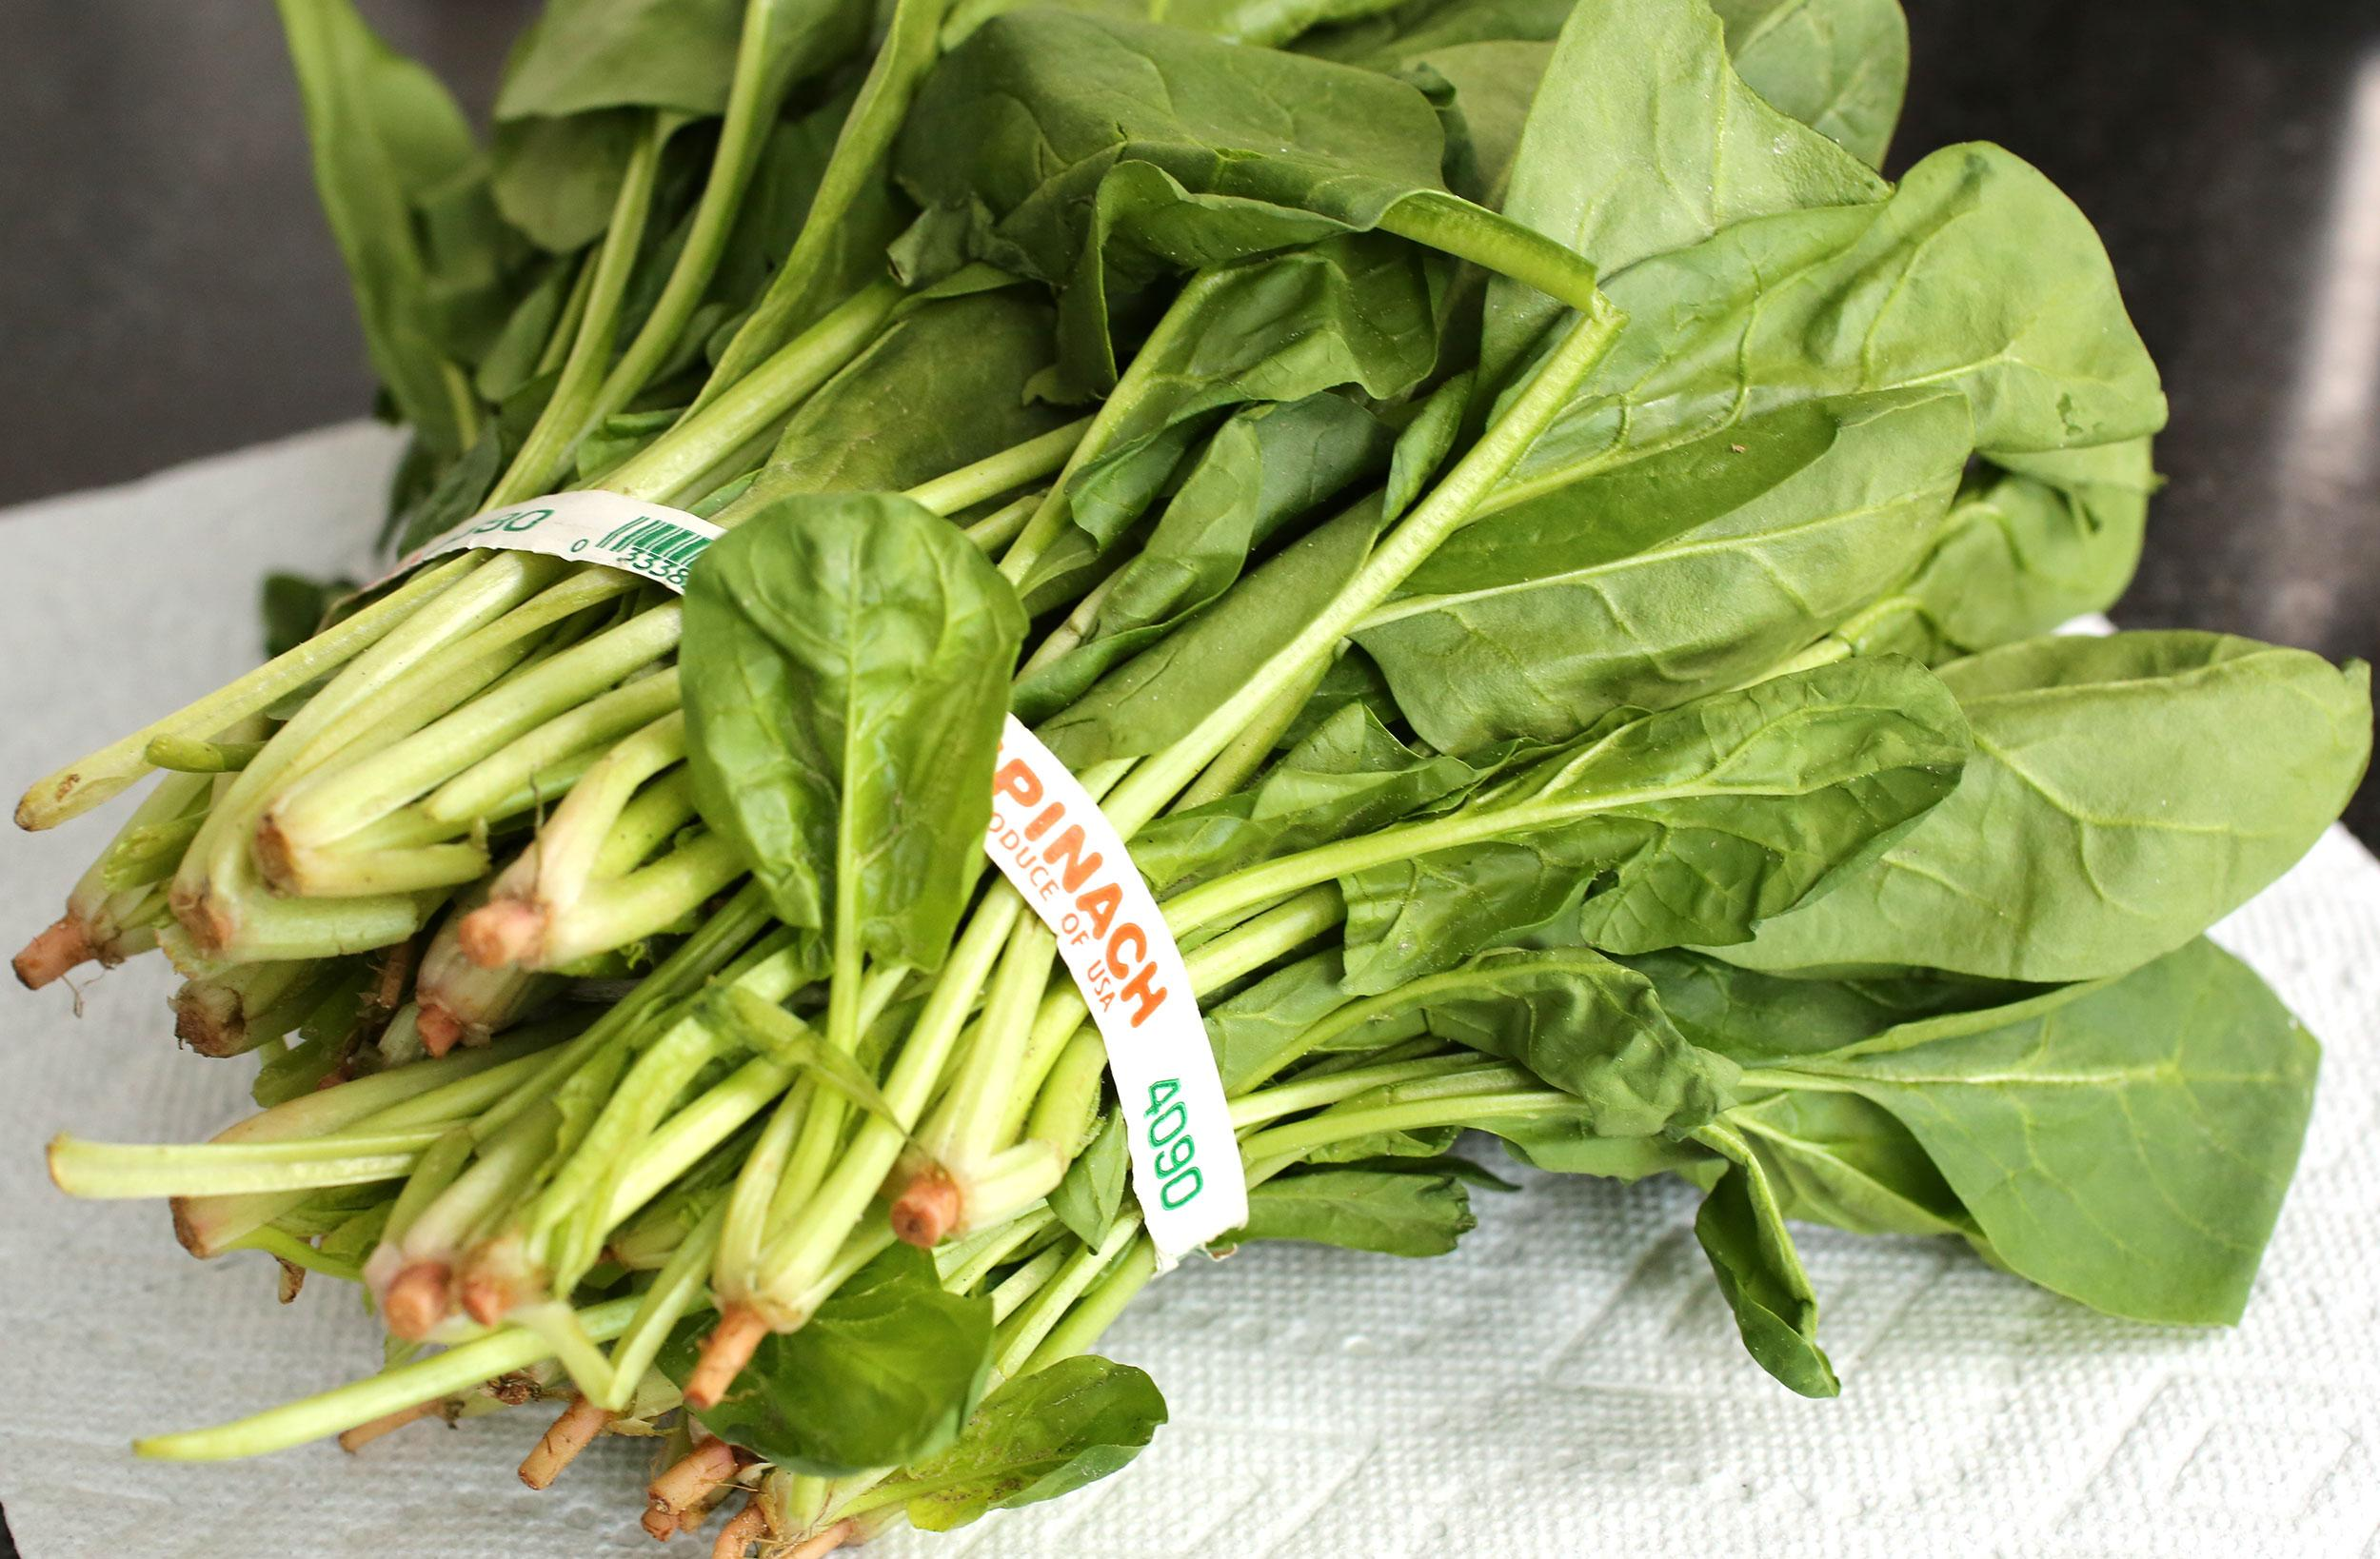spinach: (12, 2, 2368, 1552)
